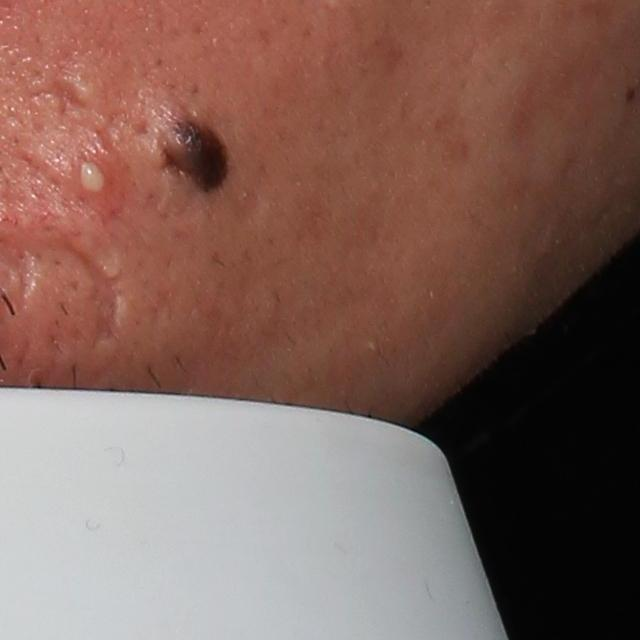atrophic_scar: (42, 63, 81, 119)
nevus: (150, 110, 240, 198)
pustule: (71, 157, 113, 198)
